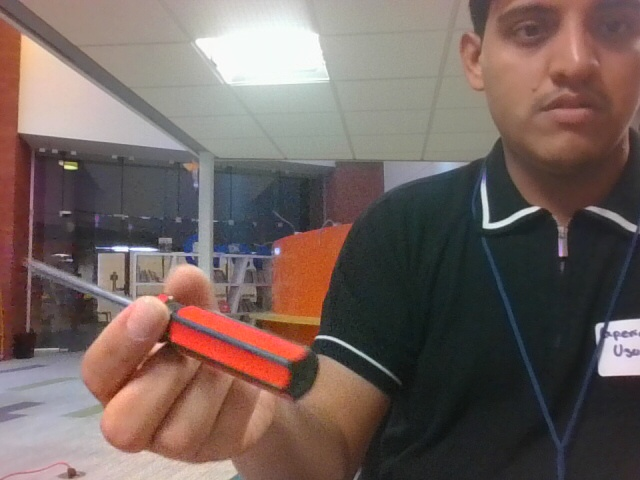destornillador: (21, 257, 318, 399)
